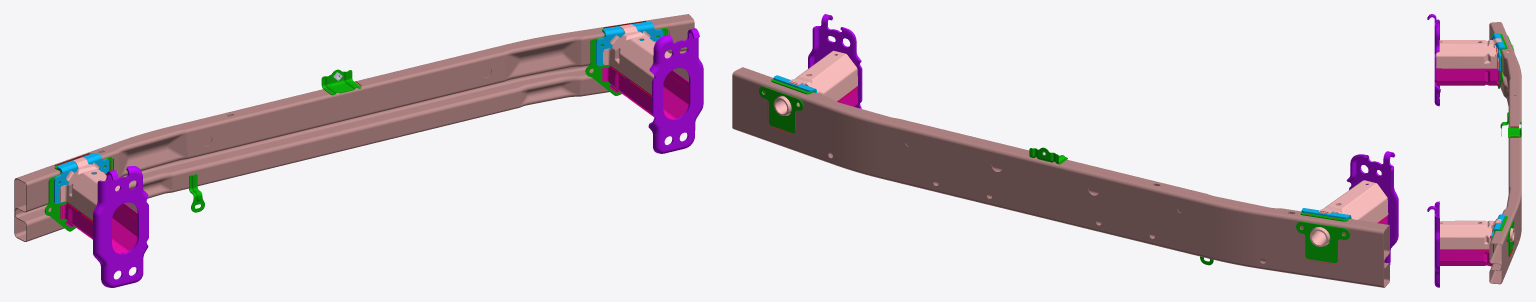
File: RAV4-qianfangzhuangliang.glb
The picture shows the model from 3 angles, left to right: view 1: azimuth 30°, elevation 25°; view 2: azimuth 150°, elevation 25°; view 3: azimuth 270°, elevation 25°; orthographic projection. The views are drawn at different scales.
Visible parts, largest first — view 1: Face (×29); view 2: Face (×17); view 3: Face (×30).
Boxes of the visible parts, <box> form: Face (×29): <box>15,14,700,284</box>; Face (×17): <box>732,22,1394,285</box>; Face (×30): <box>1434,22,1521,283</box>.
Bounding box in the file's own units: 1.2 × 0.2072 × 0.2167.
